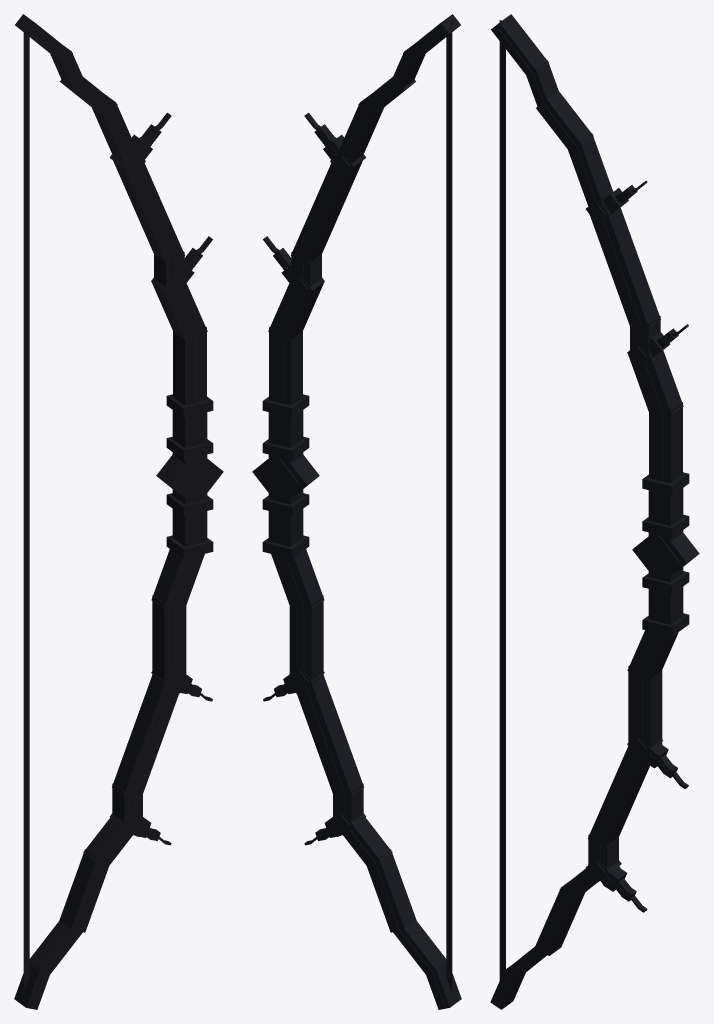
The model's file is requiem_shortbow_smooth.obj.
The picture shows the model from 3 angles, left to right: view 1: azimuth 30°, elevation 25°; view 2: azimuth 150°, elevation 25°; view 3: azimuth 330°, elevation 25°; orthographic projection.
Parts seen in each view (by area): view 1: requiem_shortbow; view 2: requiem_shortbow; view 3: requiem_shortbow.
Boxes of the visible parts, box(x1,y1,x2,y2) form: requiem_shortbow: box(14, 14, 223, 1009); requiem_shortbow: box(252, 14, 461, 1009); requiem_shortbow: box(490, 14, 699, 1009).
Size of the model in its own units: 0.4758 by 2.28 by 0.0717.
